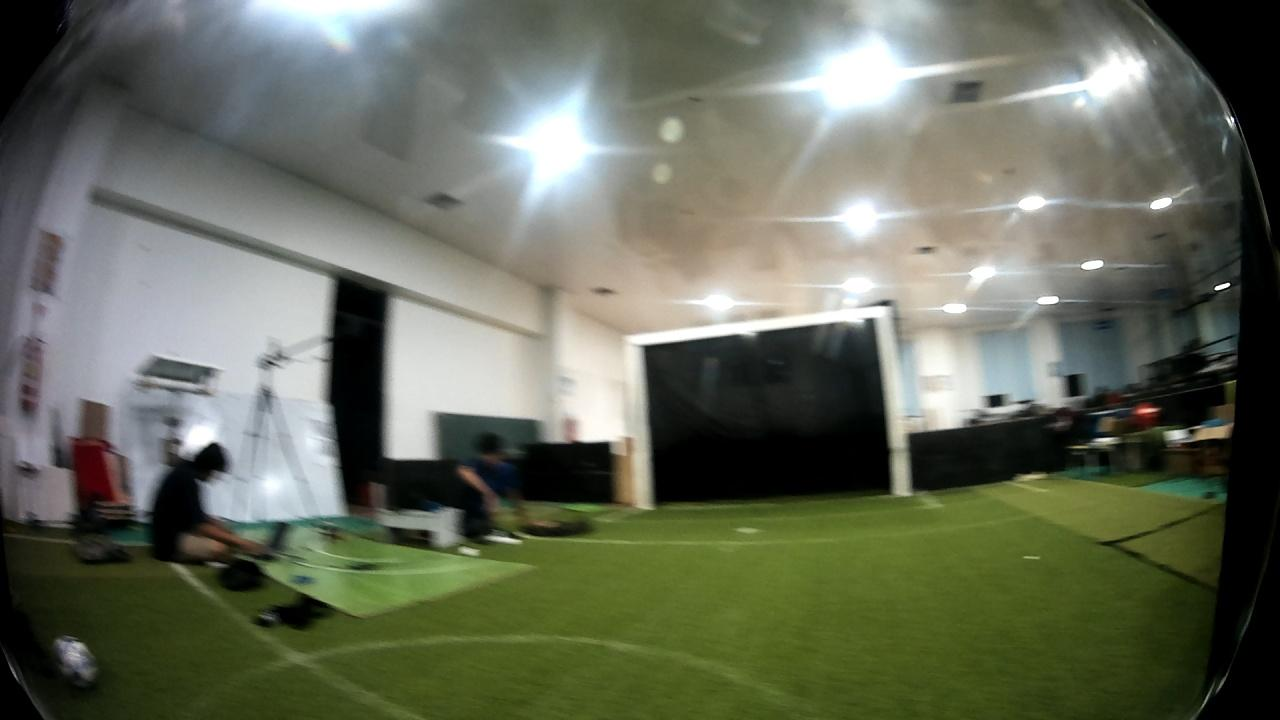ball: (46, 631, 104, 696)
